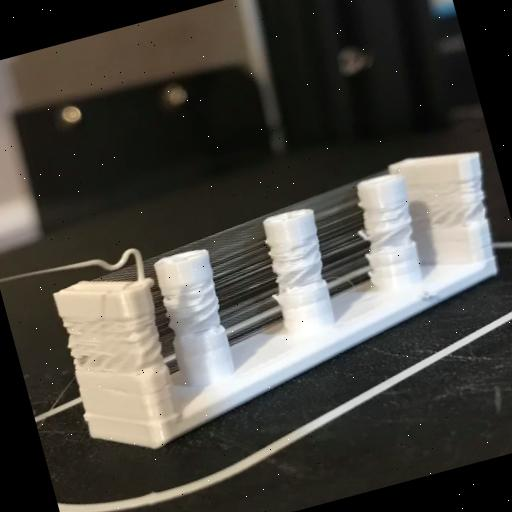stringing: (83, 166, 391, 374)
